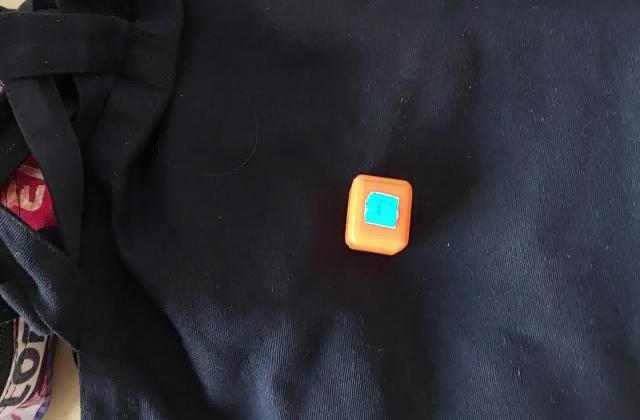blue: (371, 197, 394, 221)
sticker: (343, 171, 413, 258)
